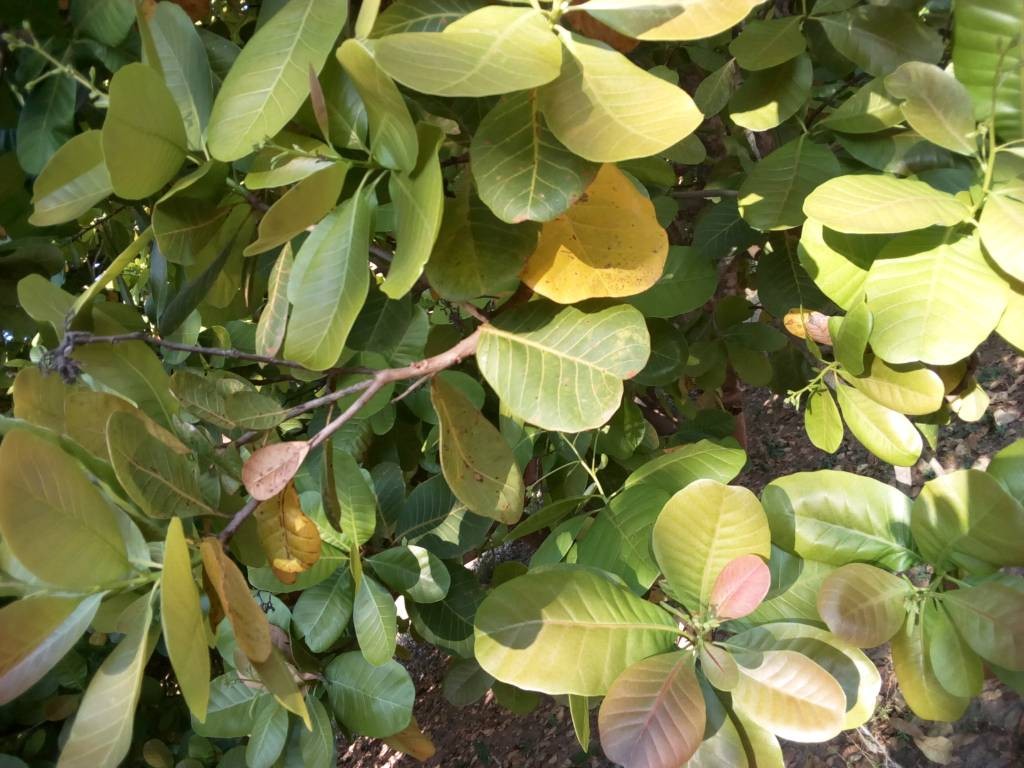Dessèchement des bourgeons: (193, 365, 334, 465), (36, 307, 186, 382)
